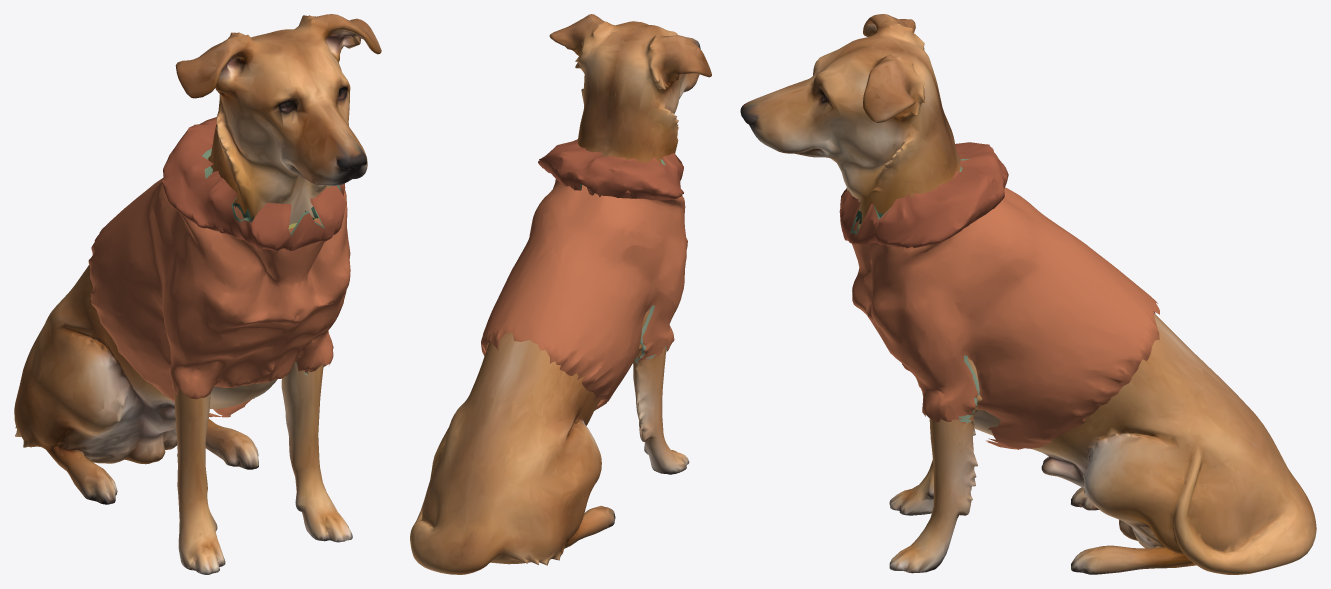
File: bento3d.glb
3 views of the same model, side by side, from view 1: azimuth 30°, elevation 25°; view 2: azimuth 150°, elevation 25°; view 3: azimuth 270°, elevation 25° (orthographic). The views are drawn at different scales.
Parts seen in each view (by area): view 1: dog, outfit_capa, outfit_capa_hood; view 2: dog, outfit_capa, outfit_capa_hood; view 3: dog, outfit_capa, outfit_capa_hood.
Part boxes in pixels (x1=…): dog: x1=14, y1=14, x2=381, y2=574; outfit_capa: x1=88, y1=178, x2=350, y2=417; outfit_capa_hood: x1=162, y1=117, x2=345, y2=251; dog: x1=410, y1=14, x2=711, y2=574; outfit_capa: x1=481, y1=179, x2=687, y2=410; outfit_capa_hood: x1=538, y1=139, x2=683, y2=200; dog: x1=740, y1=14, x2=1316, y2=574; outfit_capa: x1=852, y1=187, x2=1159, y2=449; outfit_capa_hood: x1=839, y1=142, x2=1008, y2=248.
Bounding box in the file's own units: 0.6955 × 1.81 × 1.9.
